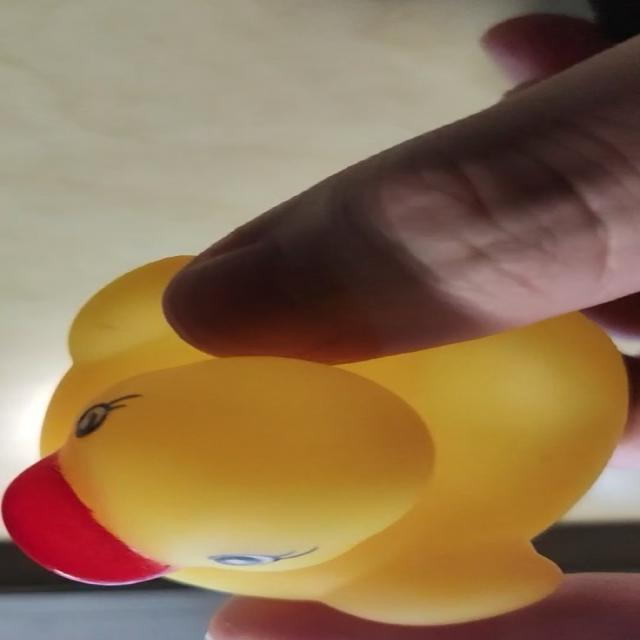rubber-duck: (40, 256, 625, 623)
